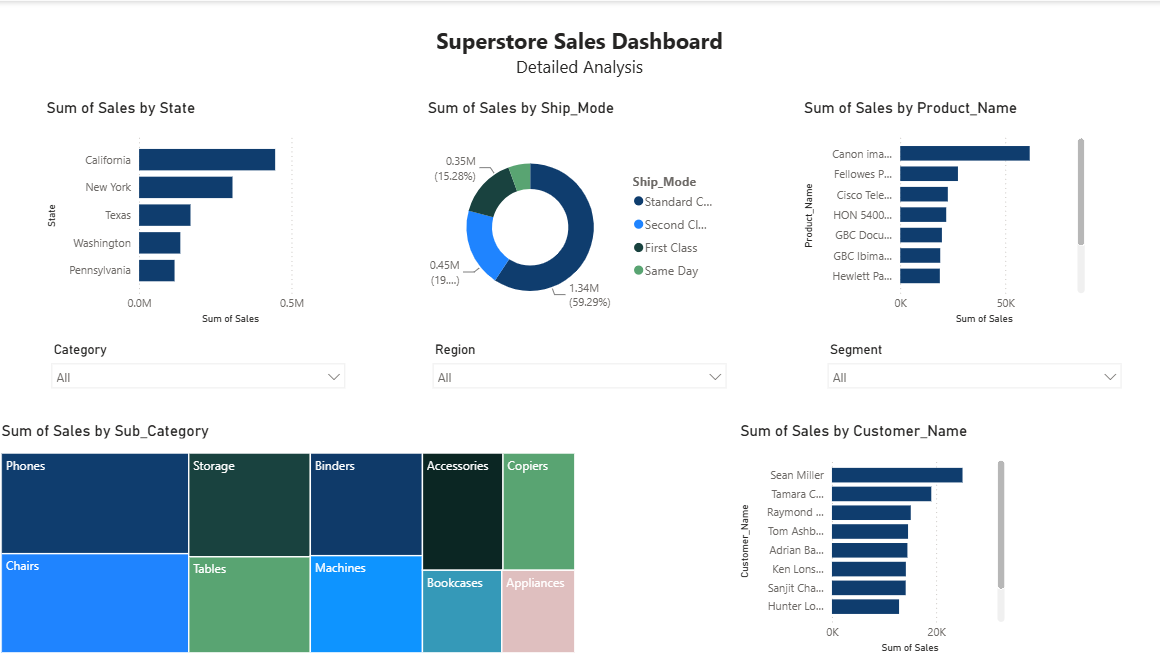

This screenshot's page, from the dashboard's own definition file:
{"tool":"powerbi","page":{"name":"Detailed Analysis","canvas":[1280,720],"ordinal":1},"visuals":[{"type":"clusteredBarChart","fields":{"Category":["superstore.Customer_Name"],"Y":["Sum(superstore.Sales)"]},"box":[811,461.1,300.5,259.3],"z":0},{"type":"clusteredBarChart","fields":{"Category":["superstore.Product_Name"],"Y":["Sum(superstore.Sales)"]},"box":[881,107,318.4,252.5],"z":1000},{"type":"clusteredBarChart","fields":{"Category":["superstore.State"],"Y":["Sum(superstore.Sales)"]},"box":[49.4,107,326.6,252.5],"z":2000},{"type":"donutChart","fields":{"Category":["superstore.Ship_Mode"],"Y":["Sum(superstore.Sales)"]},"box":[467.9,107,332.1,252.5],"z":3000},{"type":"treemap","fields":{"Group":["superstore.Sub_Category"],"Values":["Sum(superstore.Sales)"]},"box":[0,461.1,639.5,259.3],"z":4000},{"type":"slicer","fields":{"Values":["superstore.Category"]},"box":[49.4,369.1,343.1,61.7],"z":5000},{"type":"slicer","fields":{"Values":["superstore.Region"]},"box":[467.9,369.1,343.1,61.7],"z":6000},{"type":"slicer","fields":{"Values":["superstore.Segment"]},"box":[901.5,369.1,343.1,61.7],"z":7000},{"type":"textbox","box":[639,461,172,259],"z":7001},{"type":"textbox","box":[1112,461,150,259],"z":7002},{"type":"textbox","box":[380.1,22,518.7,85.1],"z":7003}]}

Visuals, with their boxes in screenshot pixels (x1, y1, x2, y2), scaled from the page's 1280x720 canvas onto the 1160x657 screenshot:
clusteredBarChart - superstore.Customer_Name x Sum(superstore.Sales): 735, 421, 1007, 656
clusteredBarChart - superstore.Product_Name x Sum(superstore.Sales): 798, 98, 1087, 328
clusteredBarChart - superstore.State x Sum(superstore.Sales): 45, 98, 341, 328
donutChart - superstore.Ship_Mode x Sum(superstore.Sales): 424, 98, 725, 328
treemap - superstore.Sub_Category x Sum(superstore.Sales): 0, 421, 580, 656
slicer - superstore.Category: 45, 337, 356, 393
slicer - superstore.Region: 424, 337, 735, 393
slicer - superstore.Segment: 817, 337, 1128, 393
textbox: 579, 421, 735, 656
textbox: 1008, 421, 1144, 656
textbox: 344, 20, 815, 98
